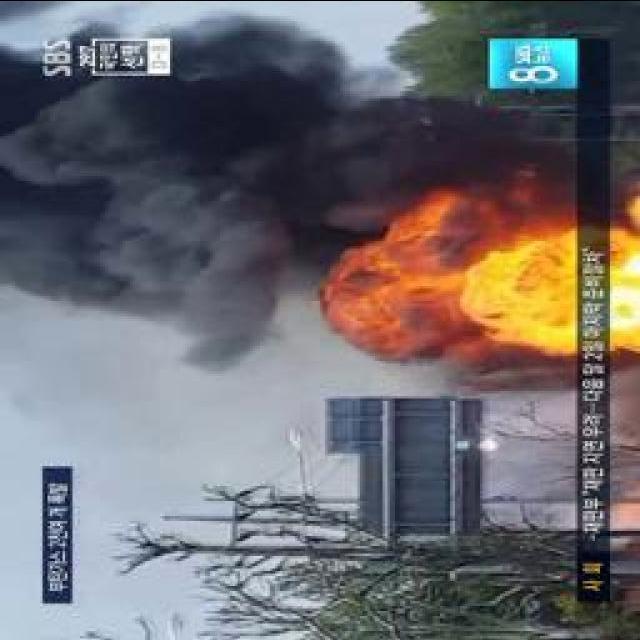Fire: (474, 224, 574, 357), (611, 227, 636, 355)
